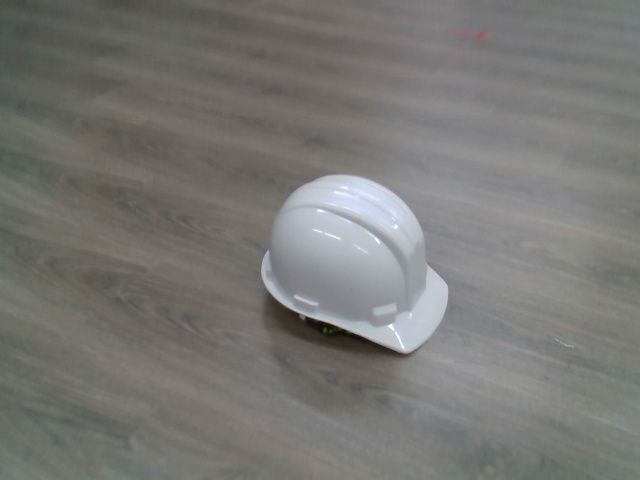helmet: (255, 168, 455, 361)
